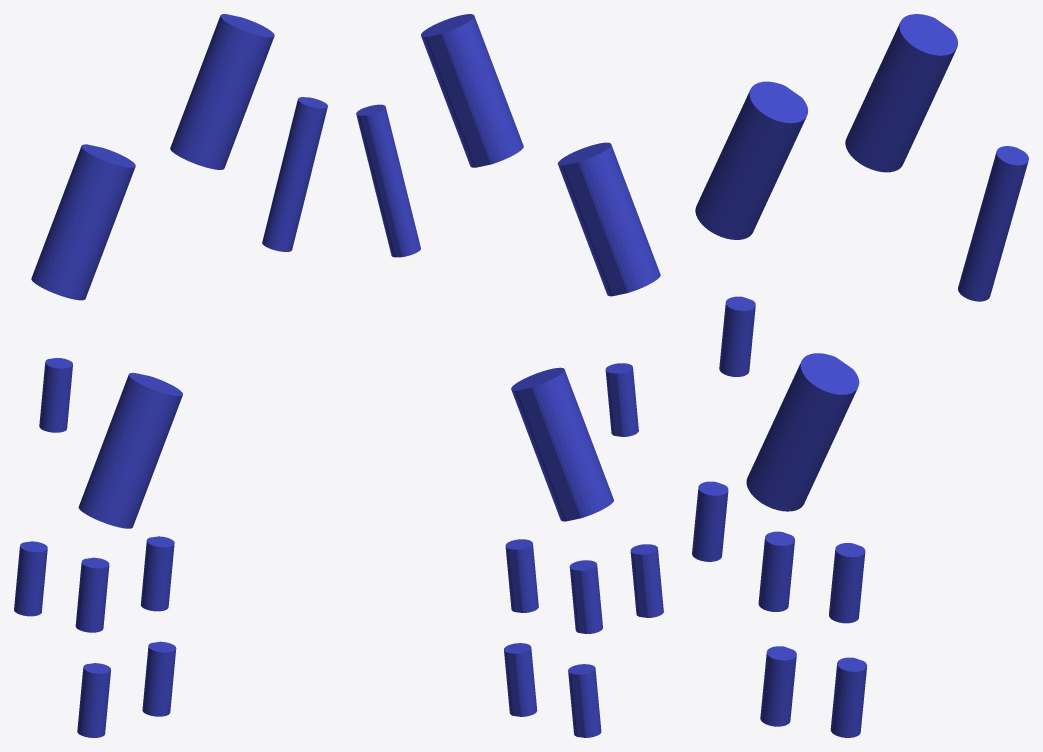
File: connectors.glb
3 views of the same model, side by side, from view 1: azimuth 30°, elevation 25°; view 2: azimuth 150°, elevation 25°; view 3: azimuth 330°, elevation 25° (orthographic). The views are drawn at different scales.
Size of the model in its own units: 92.36 by 196 by 14.53.
